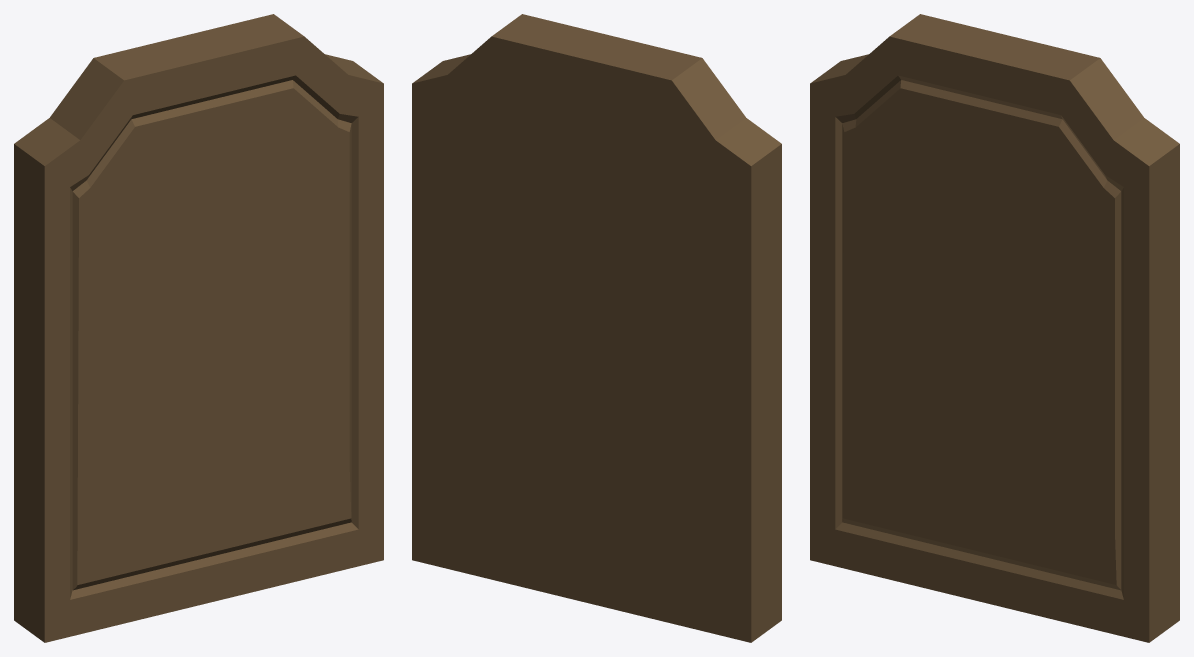
Rendered from tablet.fbx.
3 views of the same model, side by side, from view 1: azimuth 30°, elevation 25°; view 2: azimuth 150°, elevation 25°; view 3: azimuth 330°, elevation 25° (orthographic).
Visible parts, largest first — view 1: Tablet; view 2: Tablet; view 3: Tablet.
Boxes of the visible parts, box(x1,y1,x2,y2) form: Tablet: box(14, 14, 383, 642); Tablet: box(412, 14, 781, 642); Tablet: box(810, 14, 1179, 642).
Size of the model in its own units: 42.53 by 6.67 by 65.09.
